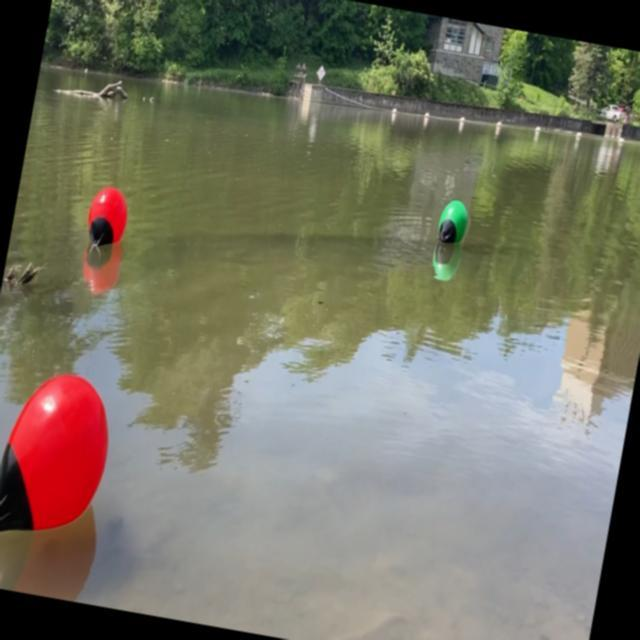buoy: (0, 359, 121, 561), (80, 180, 132, 254), (434, 195, 472, 248)
